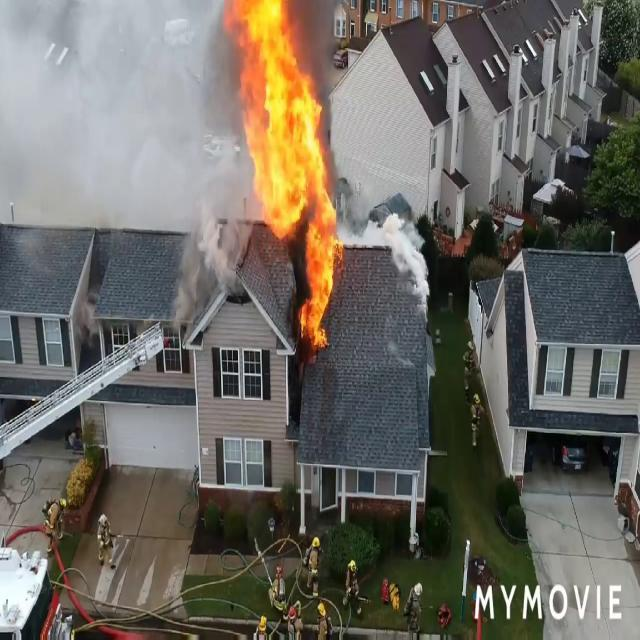Fire: (218, 0, 331, 229), (286, 198, 352, 354)
Smoke: (5, 12, 238, 268), (380, 212, 432, 300)
